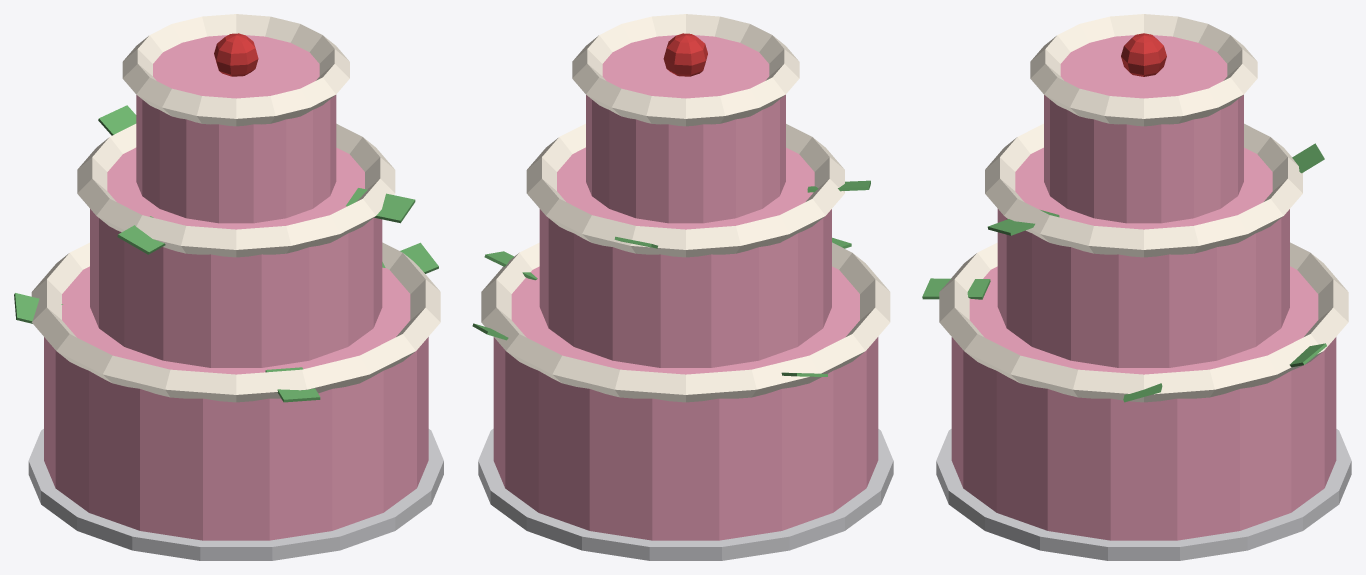
File: silver_cake.glb
The picture shows the model from 3 angles, left to right: view 1: azimuth 30°, elevation 25°; view 2: azimuth 150°, elevation 25°; view 3: azimuth 270°, elevation 25°; orthographic projection.
Visible parts, largest first — view 1: tier_cake_pink, cream_cake_cream, board_cake_board, bills_bill_green, cherry_cherry; view 2: tier_cake_pink, cream_cake_cream, board_cake_board, cherry_cherry, bills_bill_green; view 3: tier_cake_pink, cream_cake_cream, board_cake_board, bills_bill_green, cherry_cherry.
Boxes of the visible parts, x1,y1,x2,y2 form: tier_cake_pink: [44, 35, 428, 540]; cream_cake_cream: [31, 14, 440, 402]; board_cake_board: [28, 429, 443, 560]; bills_bill_green: [14, 105, 438, 402]; cherry_cherry: [214, 33, 258, 76]; tier_cake_pink: [493, 35, 878, 540]; cream_cake_cream: [481, 14, 890, 402]; board_cake_board: [478, 428, 893, 560]; cherry_cherry: [663, 33, 707, 76]; bills_bill_green: [472, 180, 870, 376]; tier_cake_pink: [951, 35, 1336, 540]; cream_cake_cream: [939, 14, 1348, 402]; board_cake_board: [936, 429, 1351, 560]; bills_bill_green: [922, 143, 1326, 402]; cherry_cherry: [1121, 33, 1166, 76].
Bounding box in the file's own units: 0.5614 × 0.63 × 0.5581.
